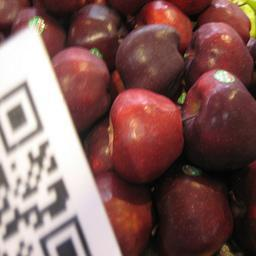apple: (176, 69, 255, 174), (105, 90, 184, 181), (153, 170, 235, 256), (49, 47, 110, 137), (116, 25, 187, 94), (94, 171, 152, 255), (183, 26, 253, 89), (133, 1, 192, 51), (67, 4, 124, 55)
